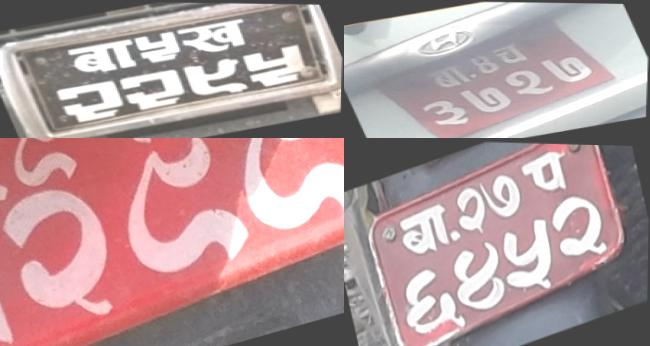0: (396, 200, 454, 262)
1: (547, 184, 613, 267), (450, 181, 491, 241), (75, 138, 162, 163)
2: (0, 172, 132, 342), (52, 75, 135, 126), (114, 64, 195, 113), (500, 64, 560, 104)
3: (414, 91, 477, 135)
4: (396, 258, 466, 344), (466, 50, 503, 78)
5: (446, 234, 512, 320), (238, 40, 318, 90), (129, 25, 190, 68)
6: (495, 212, 562, 299)
7: (478, 162, 528, 225), (536, 44, 604, 86), (458, 82, 518, 118)
8: (516, 142, 576, 203)
9: (98, 138, 262, 292), (218, 138, 344, 245), (0, 138, 88, 197), (177, 52, 256, 102)
ba: (61, 33, 148, 81), (422, 62, 472, 92)
cha: (488, 39, 536, 72)
kha: (174, 12, 258, 62)
